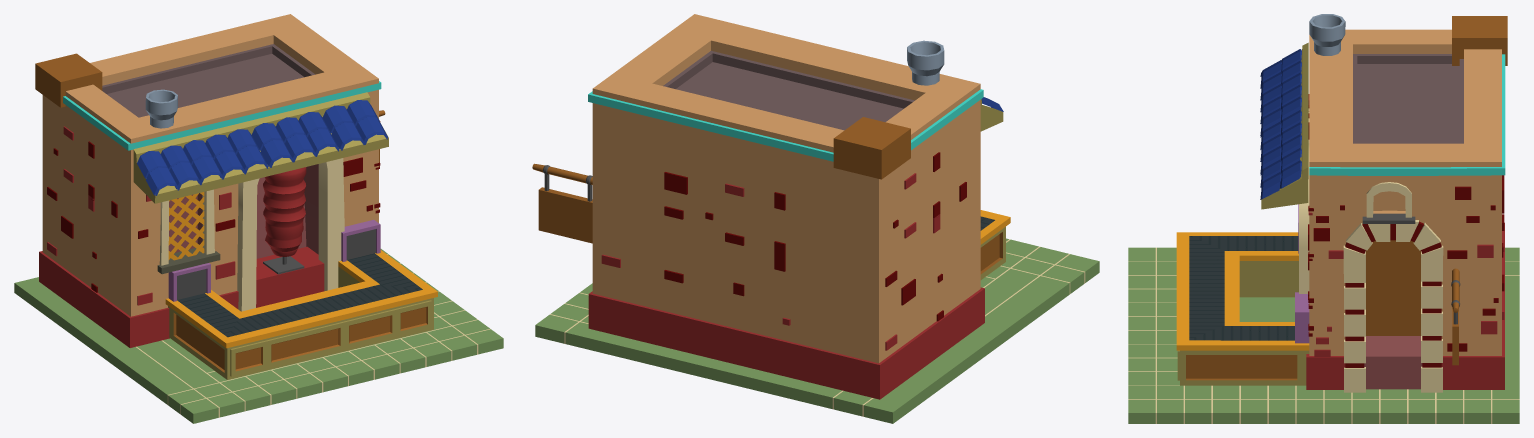
File: Kitchen-1.fbx
The picture shows the model from 3 angles, left to right: view 1: azimuth 30°, elevation 25°; view 2: azimuth 150°, elevation 25°; view 3: azimuth 270°, elevation 25°; orthographic projection. The views are drawn at different scales.
Visible parts, largest first — view 1: pCube2, polySurface2.002, Meet; view 2: pCube2; view 3: pCube2, polySurface2.002.
Part boxes in pixels (x1,y1,x2,y2): pCube2: (14, 14, 503, 423); polySurface2.002: (177, 253, 422, 337); Meet: (263, 167, 306, 256); pCube2: (532, 14, 1099, 423); pCube2: (1128, 14, 1519, 423); polySurface2.002: (1189, 236, 1298, 340).
Size of the model in its own units: 653 by 451 by 594.
